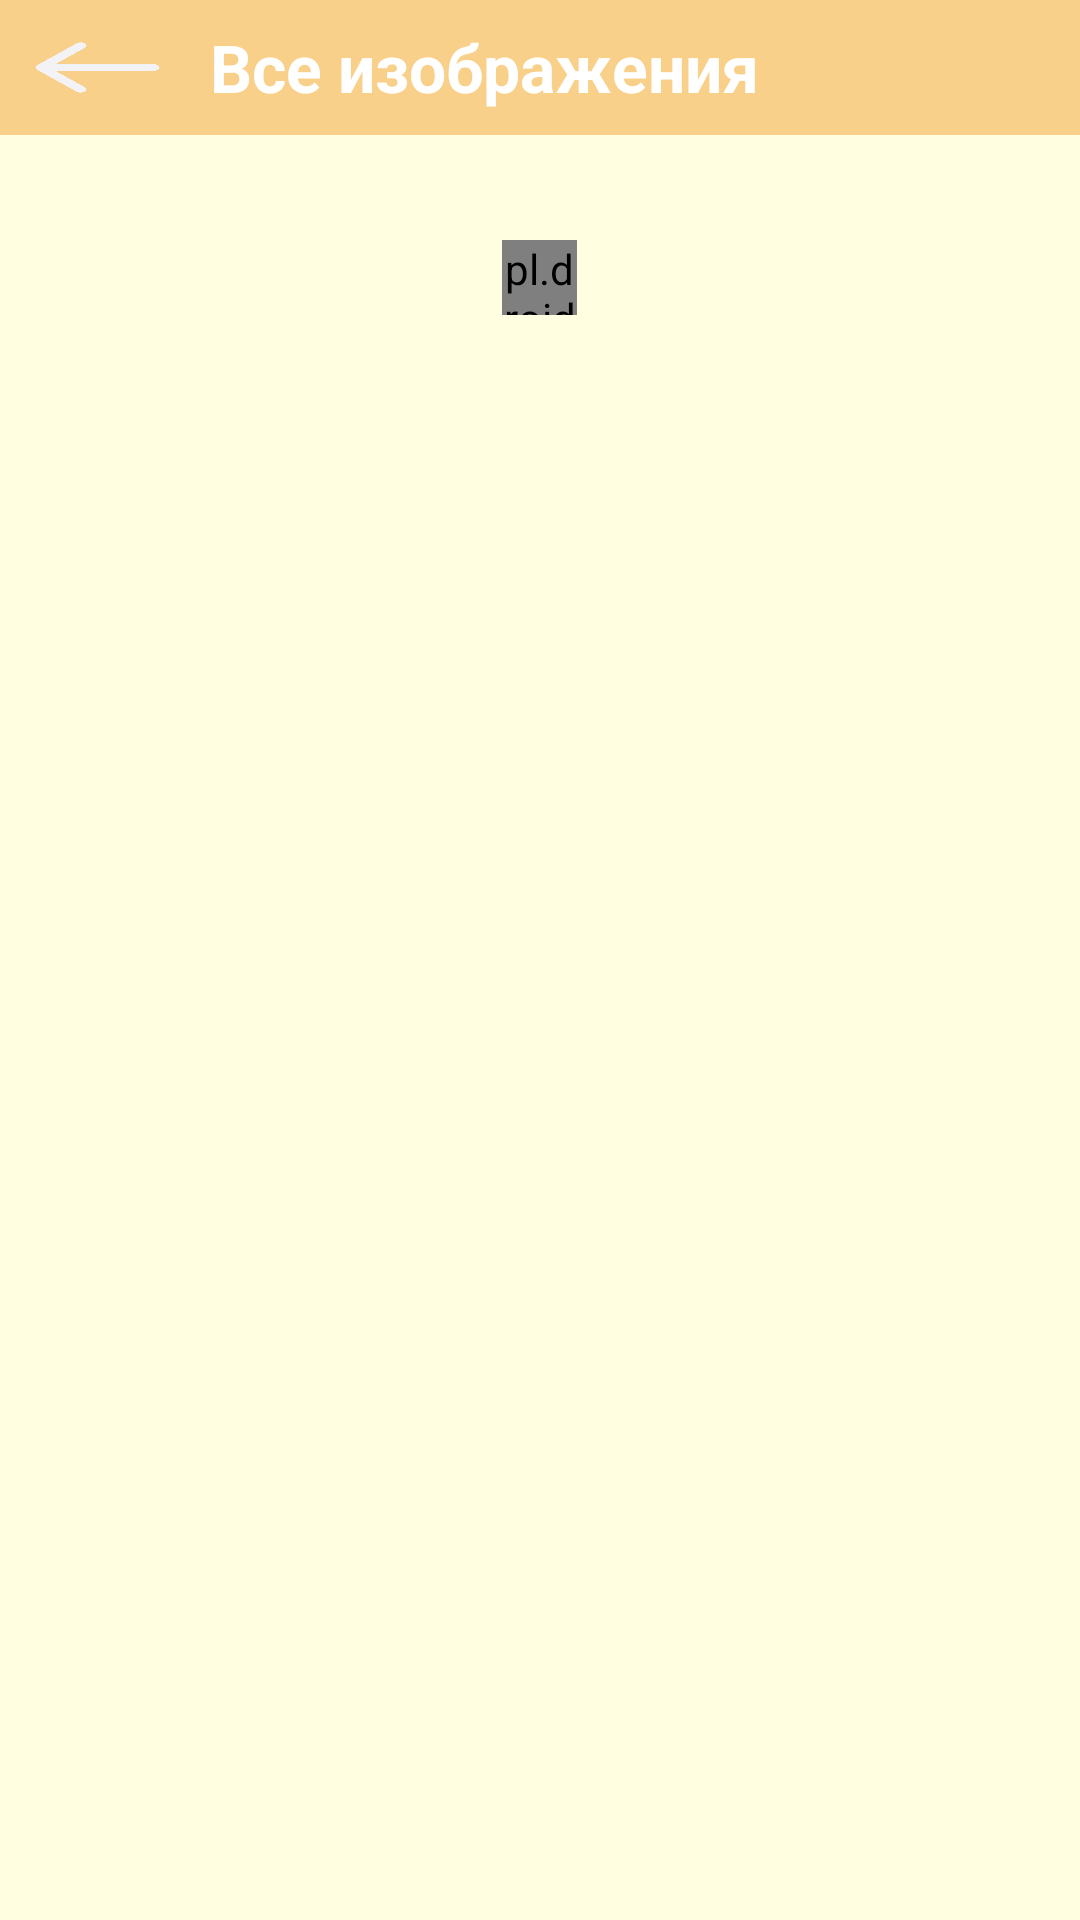

Named icons in this screenshot (1080*1920) and their bounding boxes, (x1, y1, x2, y2):
arrowback: (35, 42, 160, 93)
